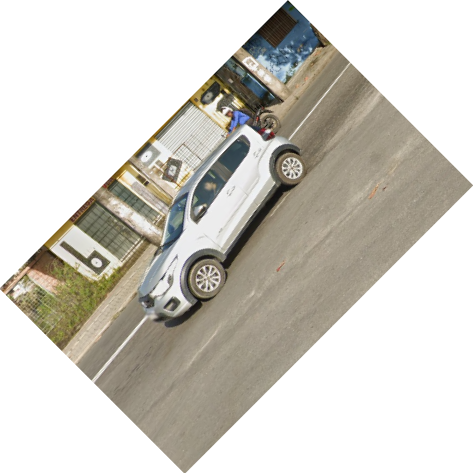car: (135, 120, 309, 327)
